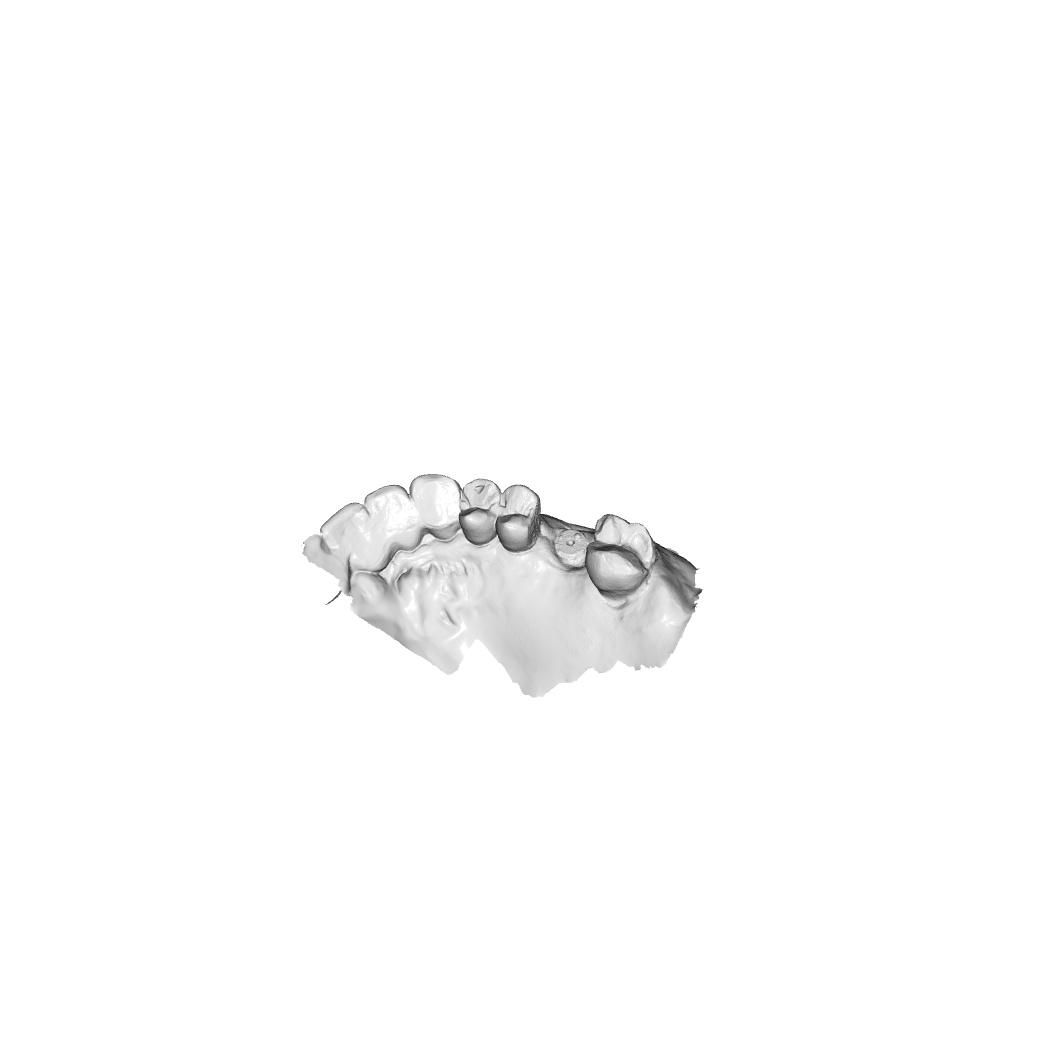canine: (408, 472, 463, 542)
implant: (553, 528, 590, 565)
incisor: (364, 482, 412, 549), (320, 500, 371, 557)
molar: (584, 512, 657, 599)
premolar: (495, 483, 542, 554), (458, 477, 502, 548)
